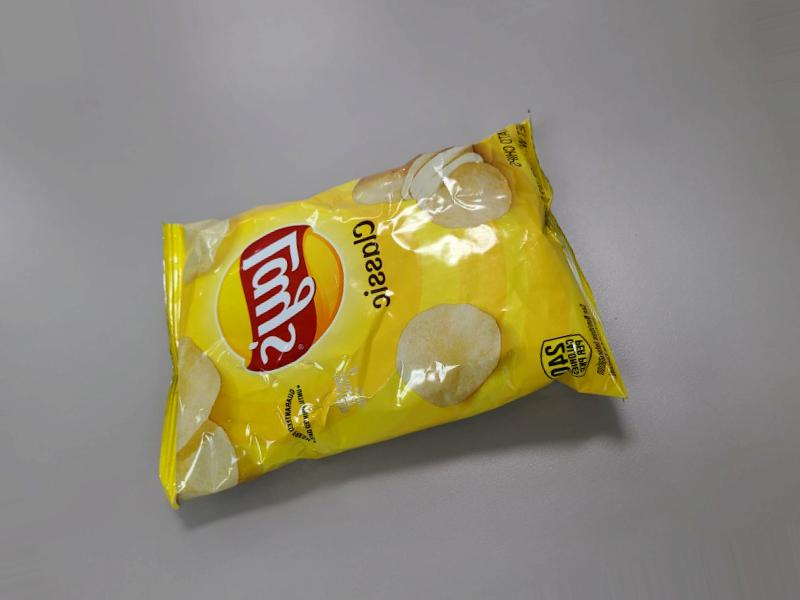lays: (193, 82, 628, 512)
